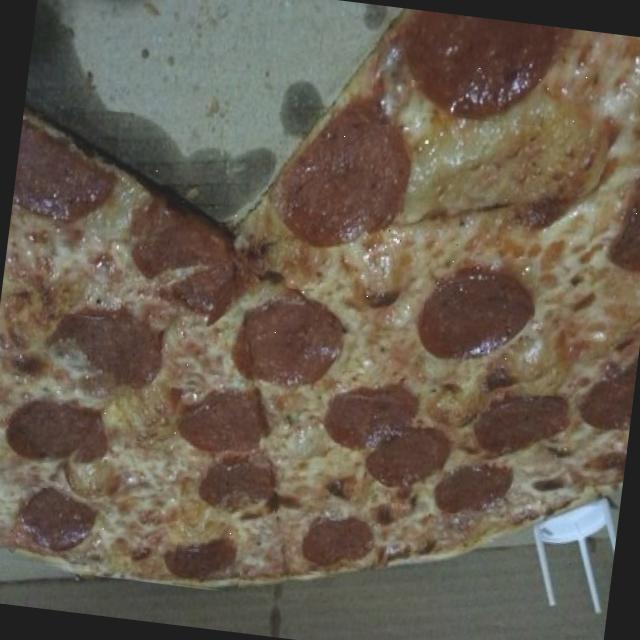pepperoni: (260, 111, 410, 262), (370, 5, 554, 126), (118, 195, 259, 342), (8, 100, 121, 247), (220, 281, 344, 405), (417, 247, 538, 373), (171, 371, 282, 474), (46, 312, 176, 397), (0, 388, 106, 484), (361, 400, 455, 506), (426, 438, 519, 540), (327, 370, 412, 464), (12, 484, 107, 568), (460, 386, 562, 462), (569, 339, 639, 448), (200, 446, 282, 536), (587, 164, 640, 279), (304, 516, 379, 580), (172, 527, 244, 591)
pizza: (0, 14, 640, 586)
